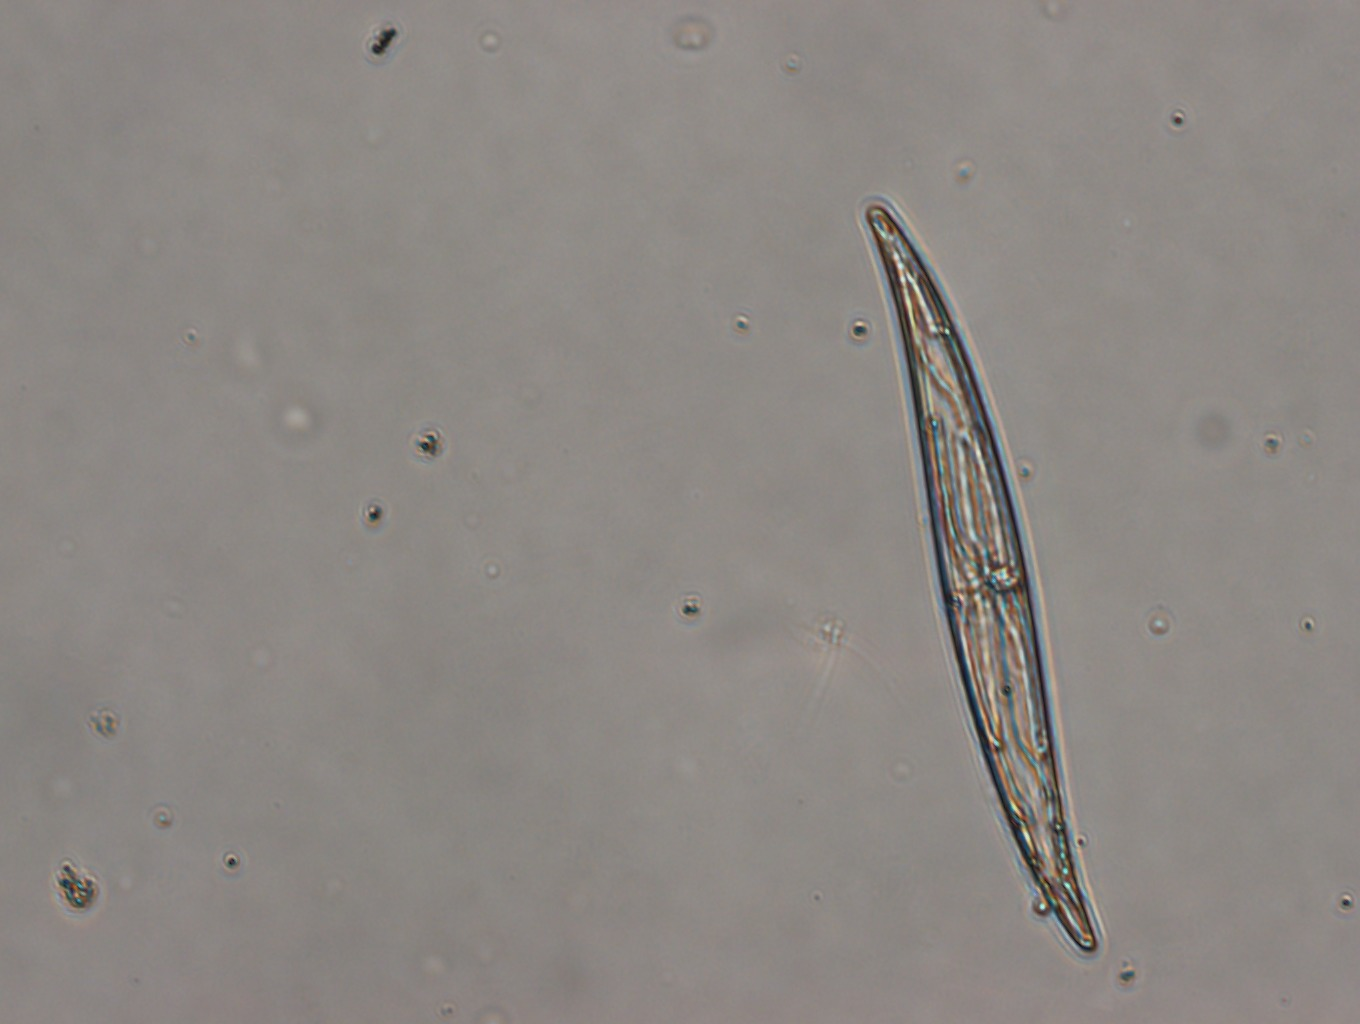pleurosigma pelagicum: (850, 186, 1108, 972)
